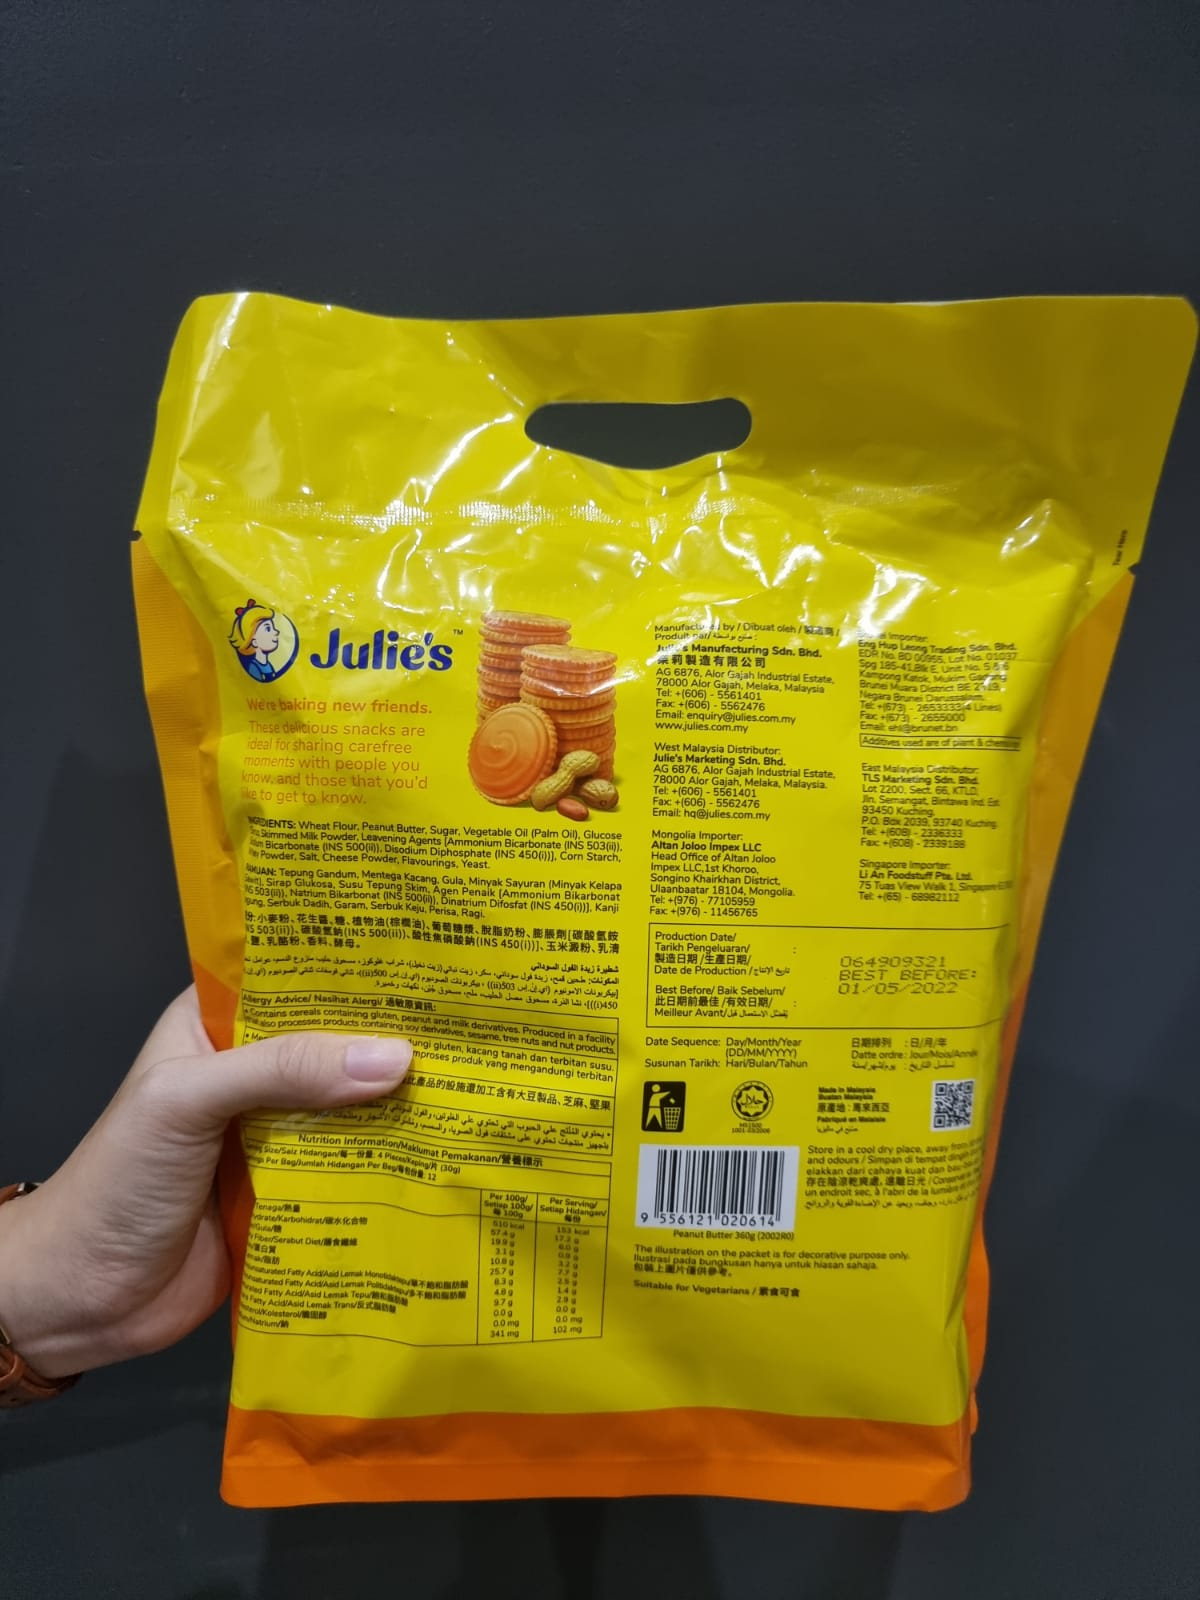Biscuits: (227, 542, 996, 1427)
